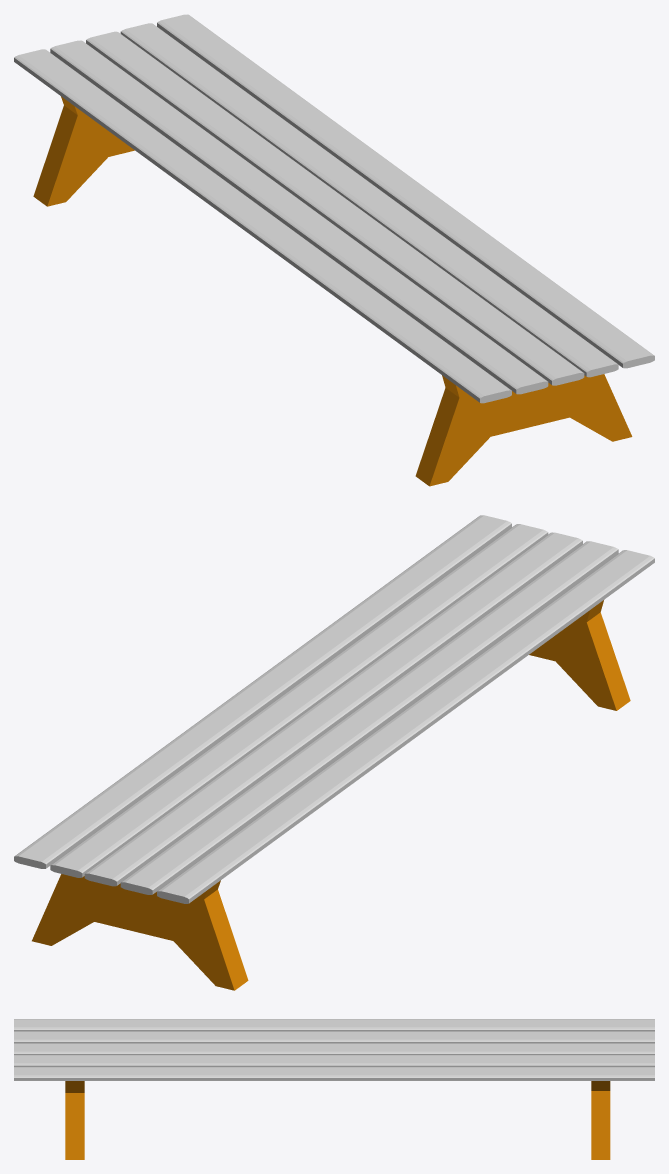
The model's file is bench_lockerroom.fbx.
The picture shows the model from 3 angles, top to bottom: view 1: azimuth 30°, elevation 25°; view 2: azimuth 150°, elevation 25°; view 3: azimuth 270°, elevation 25°; orthographic projection. The views are drawn at different scales.
Parts seen in each view (by area): view 1: Cube, Cube.002, Cube.005, Cube.003, Cube.004, Cube.001; view 2: Cube, Cube.002, Cube.005, Cube.003, Cube.004, Cube.001; view 3: Cube.005, Cube, Cube.002, Cube.003, Cube.004, Cube.001.
Part boxes in pixels (box(x1,y1,x2,y2)): Cube: box(14, 49, 511, 403); Cube.002: box(50, 40, 548, 394); Cube.005: box(157, 14, 654, 368); Cube.003: box(86, 31, 584, 385); Cube.004: box(120, 23, 618, 377); Cube.001: box(33, 96, 632, 486); Cube: box(157, 550, 654, 903); Cube.002: box(120, 541, 618, 894); Cube.005: box(14, 515, 511, 868); Cube.003: box(84, 532, 582, 886); Cube.004: box(50, 524, 548, 877); Cube.001: box(32, 600, 630, 990); Cube.005: box(14, 1067, 654, 1080); Cube: box(14, 1019, 654, 1031); Cube.002: box(14, 1031, 654, 1043); Cube.003: box(14, 1043, 654, 1054); Cube.004: box(14, 1055, 654, 1066); Cube.001: box(65, 1081, 610, 1159).
Bounding box in the file's own units: 144 × 76.72 × 571.
Materials: 1 (1 with a texture image).
